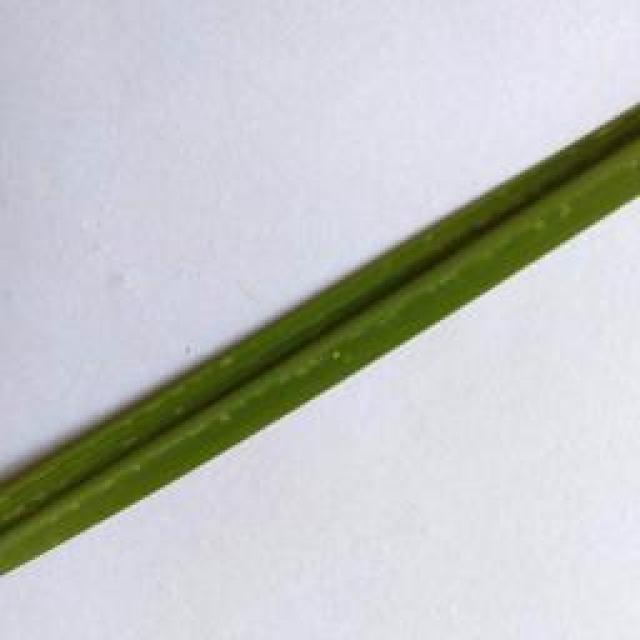Healthy-Plant: (0, 95, 640, 574)
